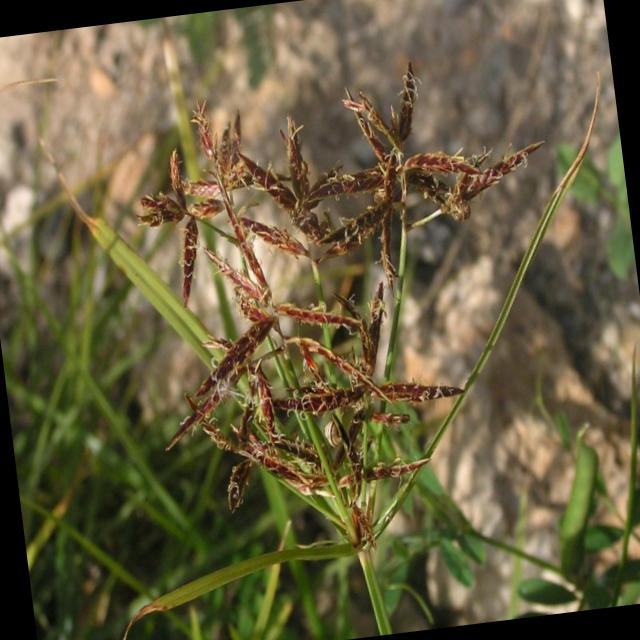cyperus: (113, 54, 592, 568)
